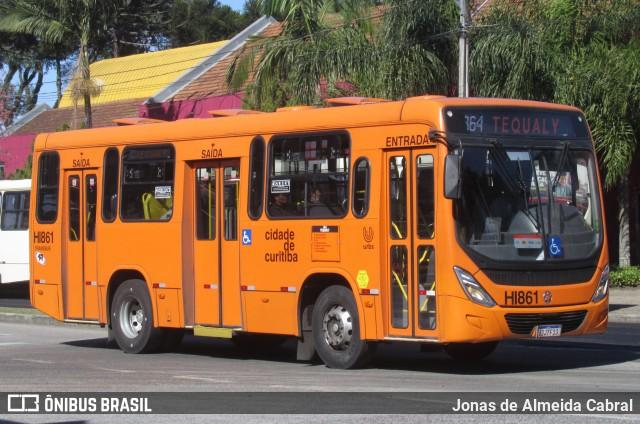TEQUALY: (488, 112, 564, 142)
